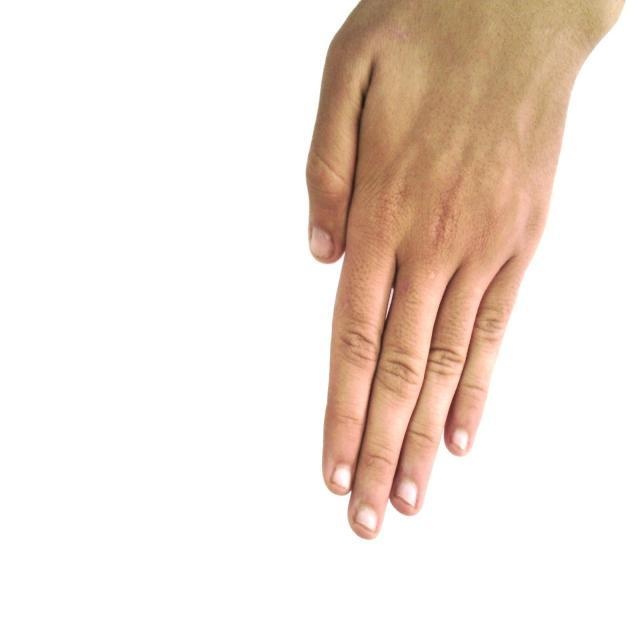Fingernail: (310, 229, 333, 259), (355, 505, 377, 532), (396, 479, 418, 506), (331, 465, 351, 489), (451, 428, 467, 450)
